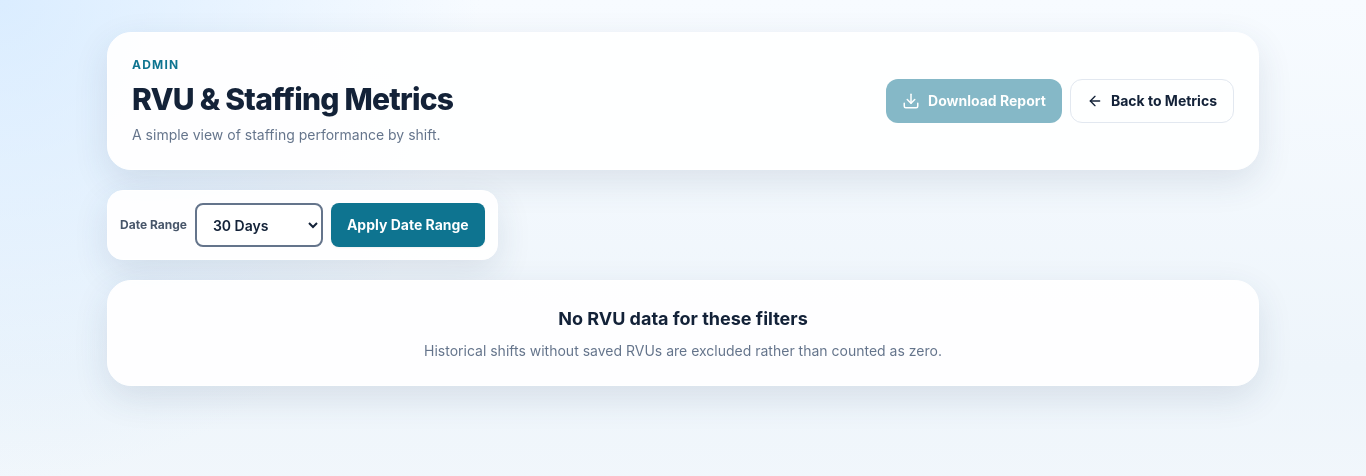
Test: offers only the requested ranges and editable custom dates
Select "Custom" in the dropdown labelled "Date Range" at (259, 225), box [195,203,323,247]
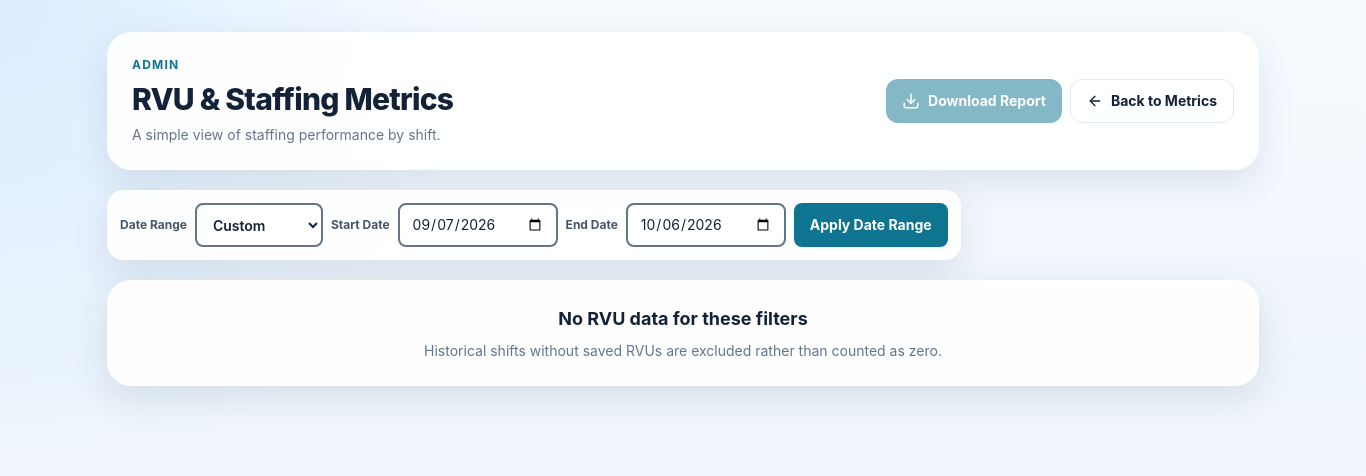
Now the date field labelled "Start Date" holds "2026-09-07"
Type "2026-10-07" into the date field labelled "Start Date".
click(478, 225); type("2026-10-07")  # box [398,203,558,247]
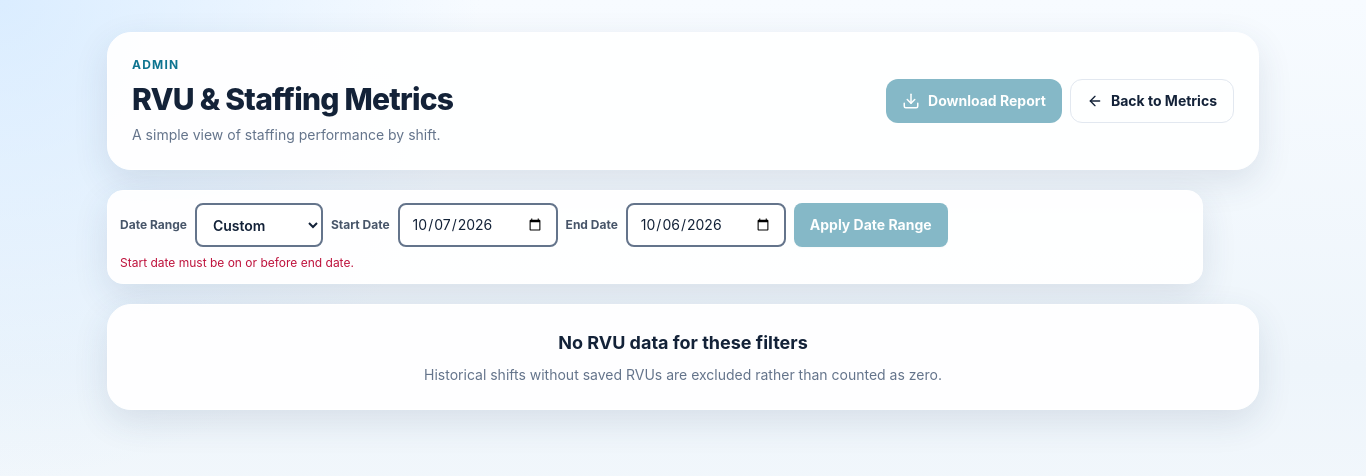
Now the button "Apply Date Range" is disabled, box [794,203,948,247]
Type "2026-10-07" into the date field labelled "End Date".
click(706, 225); type("2026-10-07")  # box [626,203,786,247]
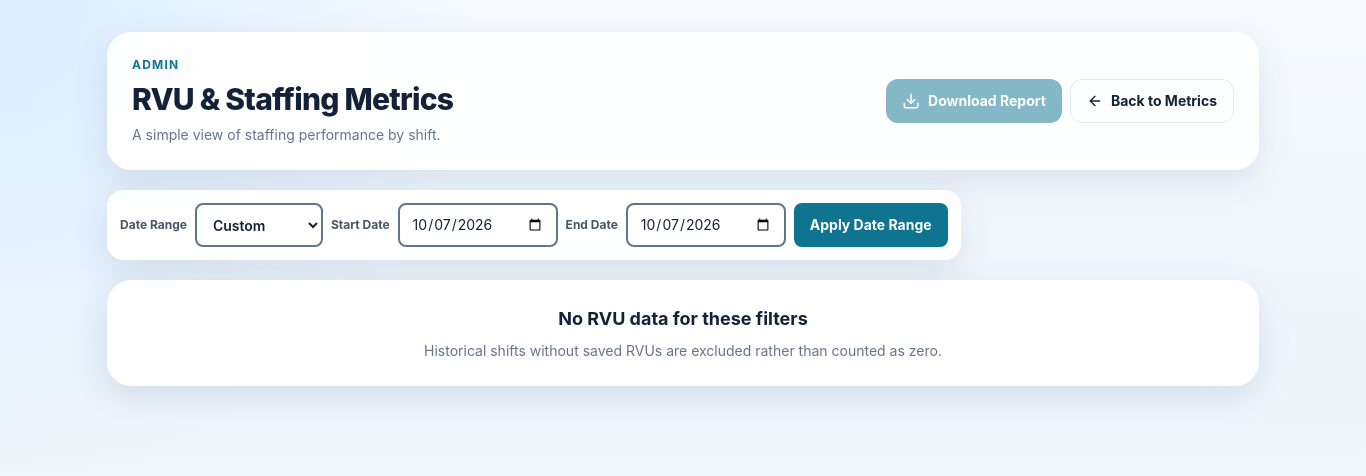
Now the button "Apply Date Range" is enabled, box [794,203,948,247]
